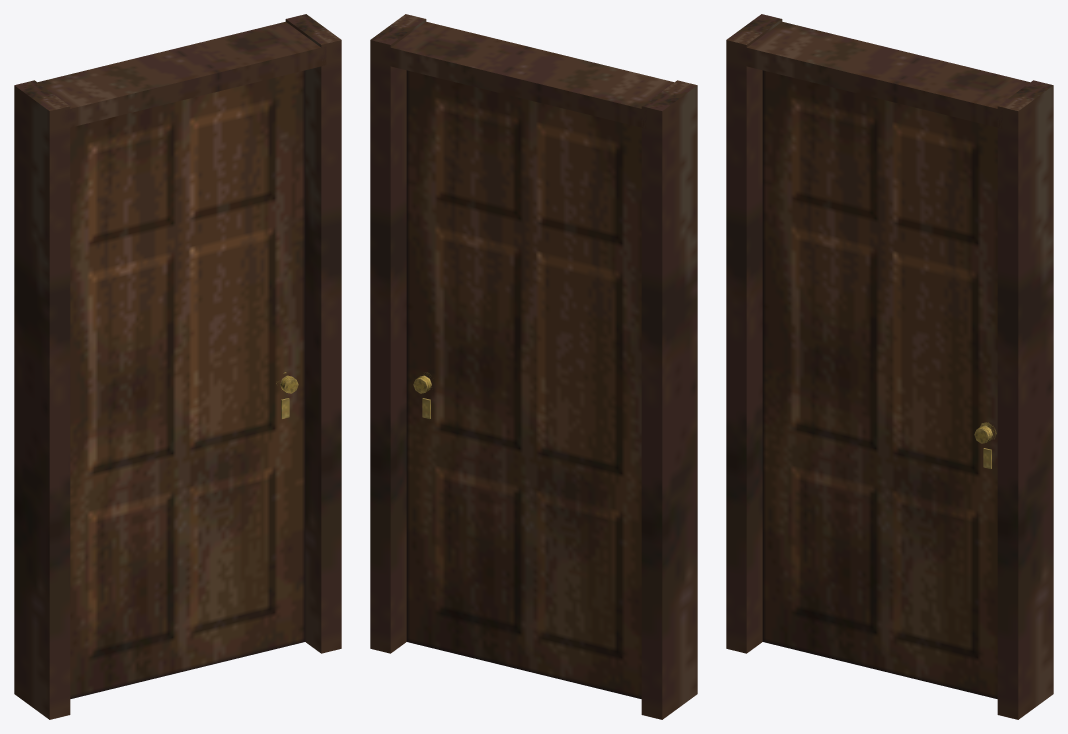
Rendered from door_panel.fbx.
3 views of the same model, side by side, from view 1: azimuth 30°, elevation 25°; view 2: azimuth 150°, elevation 25°; view 3: azimuth 330°, elevation 25° (orthographic).
Visible parts, largest first — view 1: door_panel_leaf, door_panel, door_panel_casing_r, door_panel_casing_top; view 2: door_panel_leaf, door_panel, door_panel_casing_r, door_panel_casing_top; view 3: door_panel_leaf, door_panel_casing_r, door_panel, door_panel_casing_top.
Boxes of the visible parts, x1,y1,x2,y2 form: door_panel_leaf: (70, 70, 305, 698); door_panel: (14, 80, 70, 719); door_panel_casing_r: (285, 14, 341, 653); door_panel_casing_top: (38, 21, 326, 128); door_panel_leaf: (406, 70, 641, 698); door_panel: (641, 80, 697, 719); door_panel_casing_r: (370, 14, 426, 653); door_panel_casing_top: (385, 21, 673, 128); door_panel_leaf: (762, 70, 997, 698); door_panel_casing_r: (997, 80, 1053, 719); door_panel: (726, 14, 782, 653); door_panel_casing_top: (741, 21, 1029, 128).
Bounding box in the file's own units: 1.14 × 2.27 × 0.24.
1 material, 1 textured.
